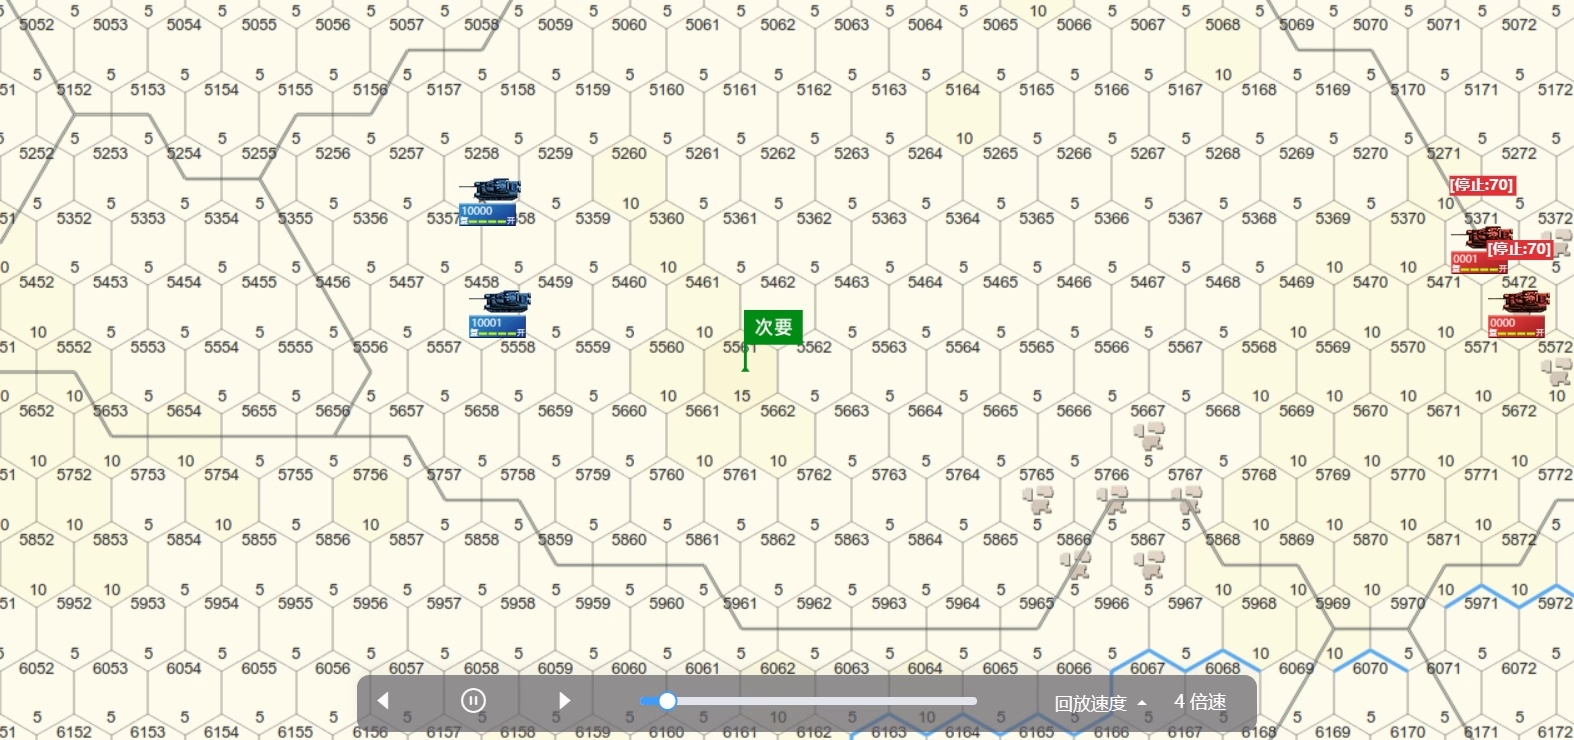blue_tank: (462, 183, 524, 221), (477, 291, 533, 330)
red_tank: (1458, 218, 1508, 277), (1497, 288, 1549, 333)
